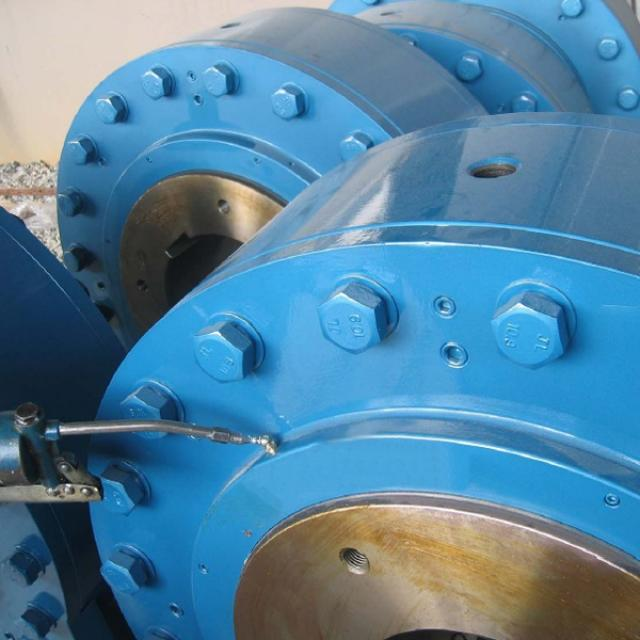blur bolt: (2, 548, 40, 589), (11, 605, 53, 638), (452, 49, 486, 84), (54, 186, 88, 220), (56, 243, 90, 275), (508, 90, 541, 122), (594, 34, 621, 63)
bolt head: (485, 289, 573, 372), (312, 278, 391, 358), (189, 320, 258, 385), (114, 382, 179, 444), (88, 463, 147, 518), (96, 548, 150, 598), (266, 81, 307, 126), (197, 60, 236, 99), (137, 64, 174, 102), (337, 131, 374, 168), (91, 92, 128, 126), (65, 132, 97, 168)
